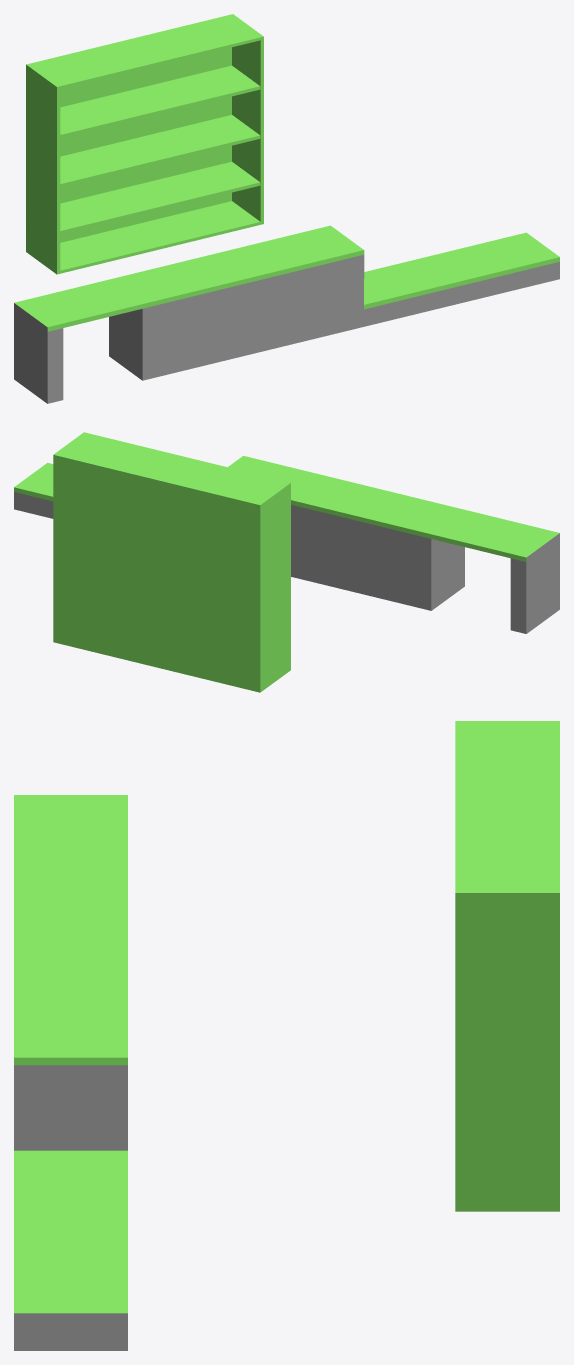
The model's file is check counter.fbx.
3 renders of one model, top to bottom at view 1: azimuth 30°, elevation 25°; view 2: azimuth 150°, elevation 25°; view 3: azimuth 270°, elevation 25°, orthographic. The views are drawn at different scales.
Parts seen in each view (by area): view 1: pCube34, Counter, mini_door; view 2: pCube34, Counter, mini_door; view 3: Counter, pCube34, mini_door.
Part boxes in pixels (bbox=[...]): pCube34: bbox=[26, 14, 263, 274]; Counter: bbox=[14, 225, 559, 403]; mini_door: bbox=[30, 279, 142, 327]; pCube34: bbox=[53, 432, 290, 692]; Counter: bbox=[14, 456, 559, 633]; mini_door: bbox=[431, 510, 543, 558]; Counter: bbox=[14, 795, 127, 1350]; pCube34: bbox=[455, 721, 559, 1211]; mini_door: bbox=[14, 808, 127, 873].
Size of the model in its own units: 24.9 by 8.74 by 13.51.
